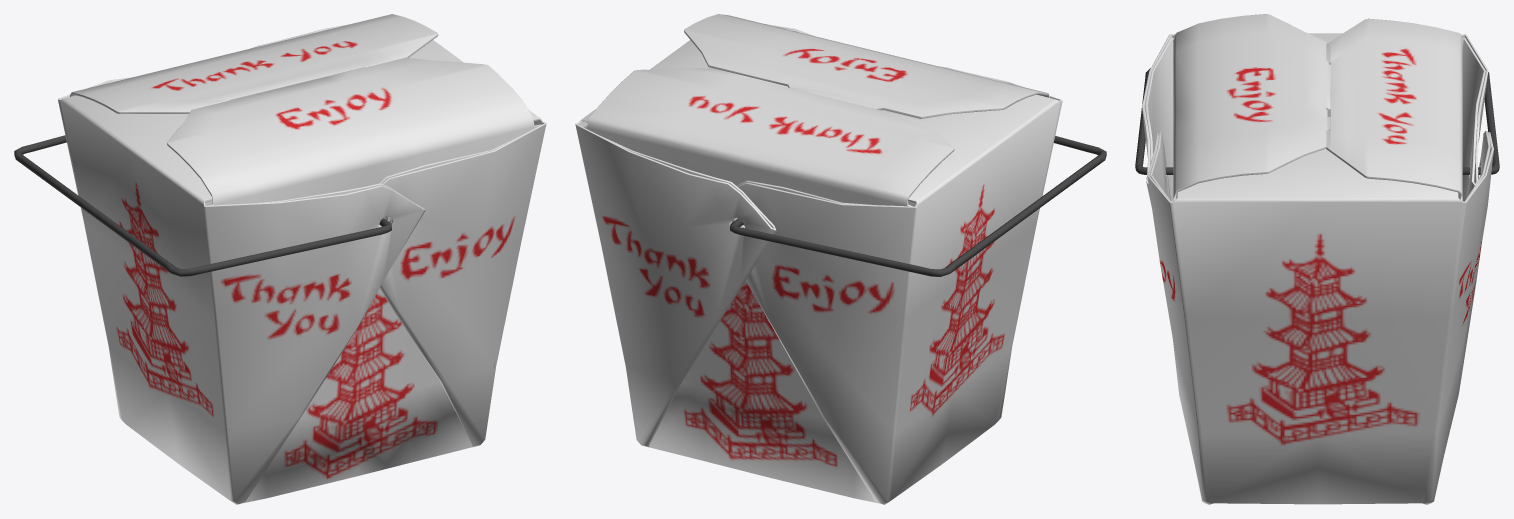
The model's file is takeout-compressed.glb.
3 views of the same model, side by side, from view 1: azimuth 30°, elevation 25°; view 2: azimuth 150°, elevation 25°; view 3: azimuth 270°, elevation 25° (orthographic).
Parts seen in each view (by area): view 1: pack, handle; view 2: pack, handle; view 3: pack, handle.
Part boxes in pixels (box(x1,y1,x2,y2)): pack: box(58, 14, 546, 504); handle: box(14, 135, 391, 276); pack: box(575, 14, 1062, 504); handle: box(730, 136, 1106, 276); pack: box(1142, 14, 1493, 504); handle: box(1135, 68, 1499, 174).
Bounding box in the file's own units: 10.89 × 9.6 × 8.96.
Materials: 1 (1 with a texture image).
